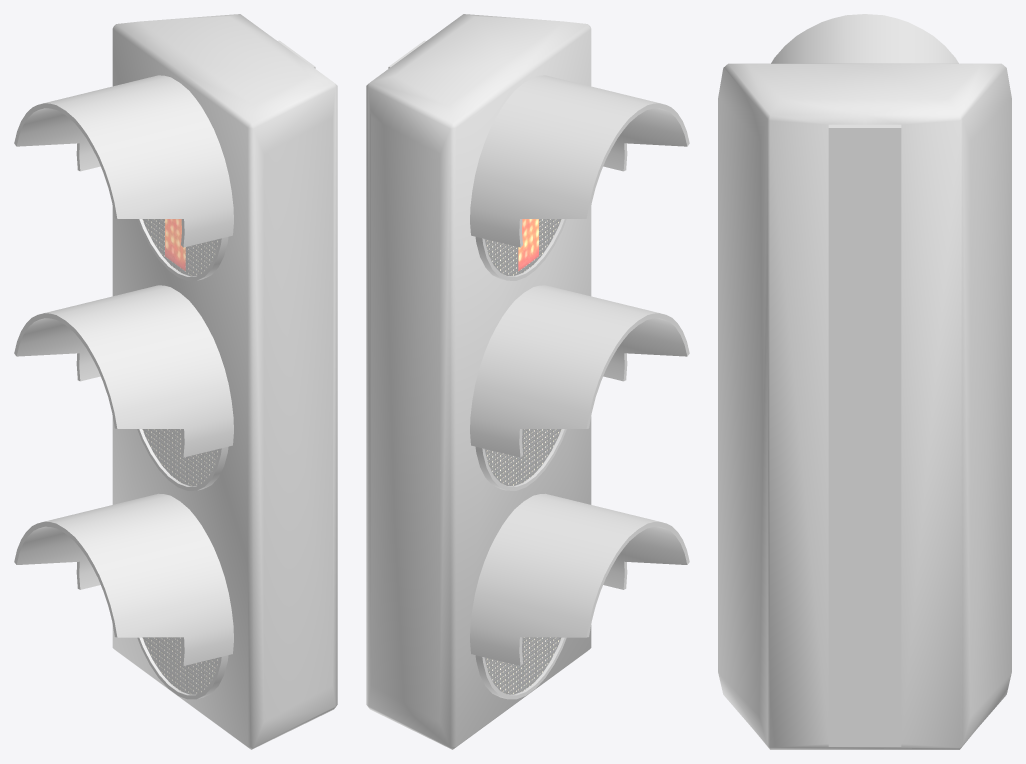
File: 竖排直行灯_RedLight.glb
3 views of the same model, side by side, from view 1: azimuth 30°, elevation 25°; view 2: azimuth 150°, elevation 25°; view 3: azimuth 270°, elevation 25° (orthographic).
Visible parts, largest first — view 1: 竖排直行灯_RedLight; view 2: 竖排直行灯_RedLight; view 3: 竖排直行灯_RedLight.
Boxes of the visible parts, x1,y1,x2,y2 form: 竖排直行灯_RedLight: (14, 14, 337, 749); 竖排直行灯_RedLight: (366, 14, 689, 749); 竖排直行灯_RedLight: (718, 14, 1011, 749).
Bounding box in the file's own units: 0.6001 × 1.58 × 0.65.
3 materials, 2 textured.
